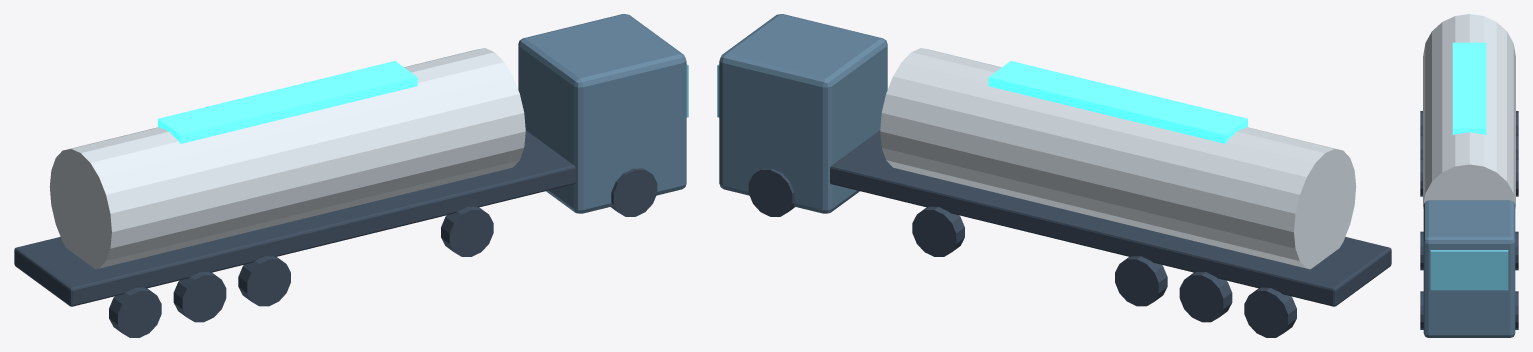
Rendered from tank-truck-v4-high.glb.
3 renders of one model, left to right at view 1: azimuth 30°, elevation 25°; view 2: azimuth 150°, elevation 25°; view 3: azimuth 270°, elevation 25°, orthographic. The views are drawn at different scales.
Visible parts, largest first — view 1: tanker-barrel.001, tanker-cab.001, tanker-frame.001, tanker-manhole.001, tanker-wheel--4.1--1.001, tanker-wheel--2.6--1.001, tanker-wheel--5.6--1.001, tanker-wheel-2.1--1.001, tanker-wheel-5.9--1.001; view 2: tanker-barrel.001, tanker-cab.001, tanker-frame.001, tanker-manhole.001, tanker-wheel--4.1-1.001, tanker-wheel--2.6-1.001, tanker-wheel--5.6-1.001, tanker-wheel-2.1-1.001, tanker-wheel-5.9-1.001; view 3: tanker-barrel.001, tanker-cab.001, tanker-win.001, tanker-manhole.001, tanker-wheel-2.1-1.001, tanker-wheel-2.1--1.001, tanker-wheel-5.9-1.001, tanker-wheel-5.9--1.001, tanker-wheel--2.6-1.001, tanker-wheel--2.6--1.001.
Part boxes in pixels (left/top/right/bottom): tanker-barrel.001: left=49, top=48, right=525, bottom=269; tanker-cab.001: left=518, top=14, right=686, bottom=213; tanker-frame.001: left=14, top=130, right=575, bottom=306; tanker-manhole.001: left=158, top=61, right=417, bottom=143; tanker-wheel--4.1--1.001: left=173, top=272, right=226, bottom=322; tanker-wheel--2.6--1.001: left=238, top=256, right=290, bottom=306; tanker-wheel--5.6--1.001: left=109, top=287, right=161, bottom=337; tanker-wheel-2.1--1.001: left=441, top=206, right=493, bottom=256; tanker-wheel-5.9--1.001: left=611, top=168, right=657, bottom=216; tanker-barrel.001: left=880, top=48, right=1356, bottom=269; tanker-cab.001: left=719, top=14, right=887, bottom=213; tanker-frame.001: left=830, top=130, right=1391, bottom=306; tanker-manhole.001: left=988, top=61, right=1247, bottom=143; tanker-wheel--4.1-1.001: left=1179, top=272, right=1232, bottom=322; tanker-wheel--2.6-1.001: left=1115, top=256, right=1167, bottom=306; tanker-wheel--5.6-1.001: left=1244, top=287, right=1296, bottom=337; tanker-wheel-2.1-1.001: left=912, top=206, right=964, bottom=256; tanker-wheel-5.9-1.001: left=748, top=168, right=794, bottom=216; tanker-barrel.001: left=1423, top=14, right=1515, bottom=208; tanker-cab.001: left=1423, top=200, right=1515, bottom=337; tanker-win.001: left=1430, top=250, right=1508, bottom=290; tanker-manhole.001: left=1452, top=42, right=1486, bottom=135; tanker-wheel-2.1-1.001: left=1515, top=231, right=1518, bottom=270; tanker-wheel-2.1--1.001: left=1420, top=231, right=1423, bottom=270; tanker-wheel-5.9-1.001: left=1515, top=291, right=1518, bottom=329; tanker-wheel-5.9--1.001: left=1420, top=291, right=1423, bottom=329; tanker-wheel--2.6-1.001: left=1516, top=158, right=1518, bottom=196; tanker-wheel--2.6--1.001: left=1420, top=158, right=1422, bottom=196.
Bounding box in the file's own units: 14.39 × 3.81 × 2.65.
